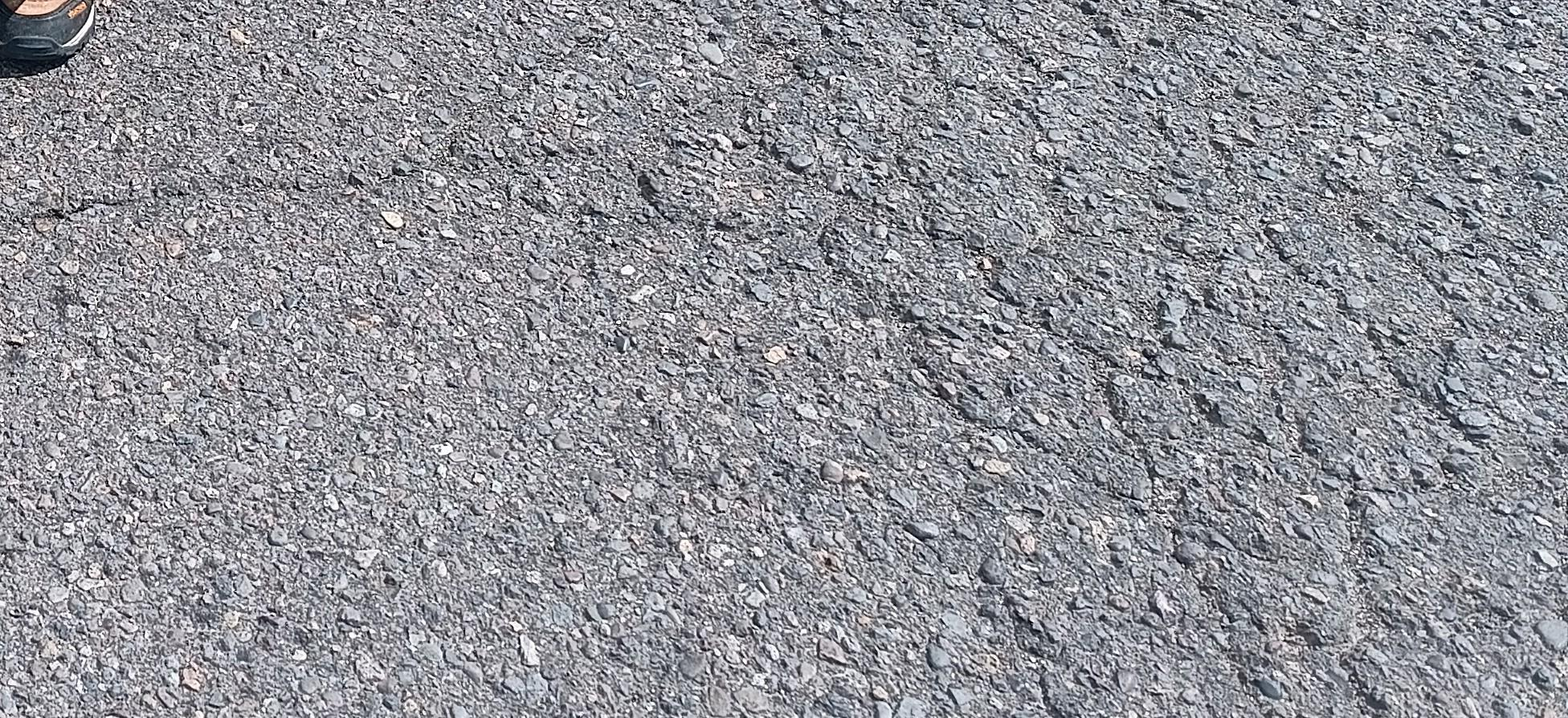GRIETA: (0, 162, 418, 240)
PIEL DE COCODRILO: (418, 0, 1567, 717)
